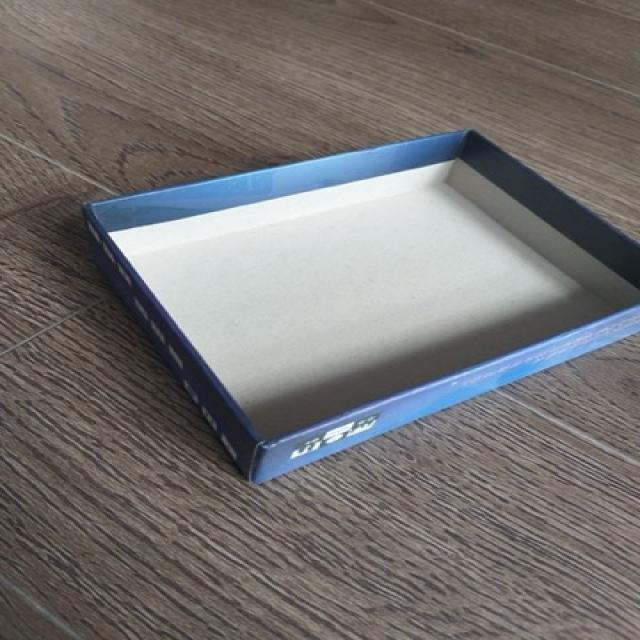PaperCardboard: (89, 125, 640, 482)
